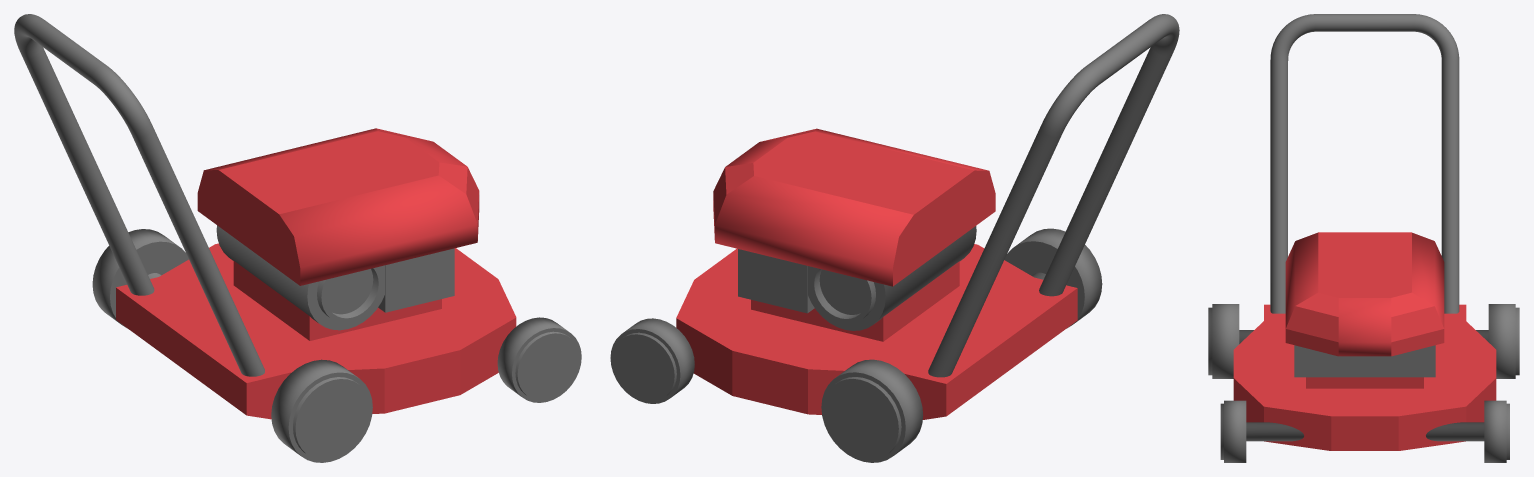
Rendered from lawnMower.fbx.
3 renders of one model, left to right at view 1: azimuth 30°, elevation 25°; view 2: azimuth 150°, elevation 25°; view 3: azimuth 270°, elevation 25°, orthographic. The views are drawn at different scales.
Parts seen in each view (by area): view 1: Cylinder.001, Circle.001; view 2: Cylinder.001, Circle.001; view 3: Cylinder.001, Circle.001.
Part boxes in pixels (x1,y1,x2,y2): Cylinder.001: (116, 128, 516, 419); Circle.001: (14, 14, 581, 462); Cylinder.001: (676, 128, 1077, 419); Circle.001: (610, 14, 1179, 462); Cylinder.001: (1233, 232, 1496, 450); Circle.001: (1208, 14, 1519, 462).
Bounding box in the file's own units: 278 × 239 × 225.
